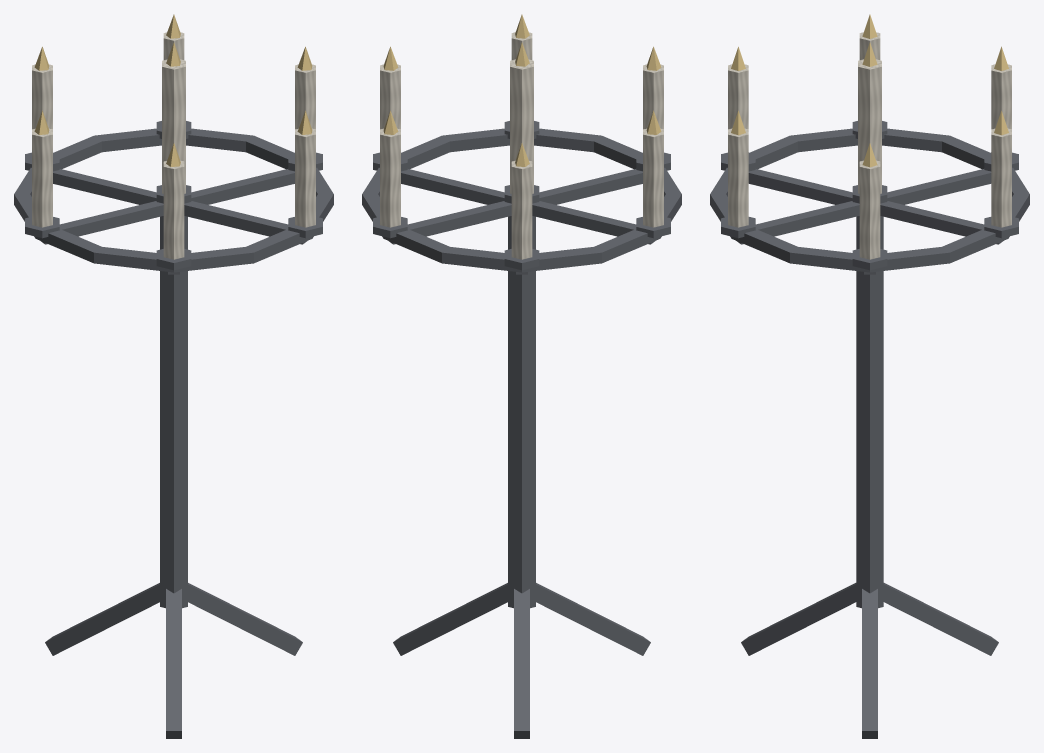
The model's file is vampire-crypt-and-gothic-cathedral-candelabra-5df7086e__23003.glb.
The picture shows the model from 3 angles, left to right: view 1: azimuth 30°, elevation 25°; view 2: azimuth 150°, elevation 25°; view 3: azimuth 270°, elevation 25°; orthographic projection.
Visible parts, largest first — view 1: candelabra; view 2: candelabra; view 3: candelabra.
Boxes of the visible parts, <box> form: candelabra: <box>14,14,333,738</box>; candelabra: <box>362,14,681,738</box>; candelabra: <box>710,14,1029,738</box>.
Bounding box in the file's own units: 0.86 × 1.77 × 0.7999.
3 materials, 1 textured.
